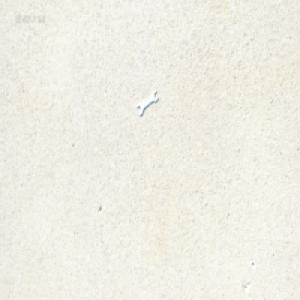Wrench: (136, 89, 158, 116)
